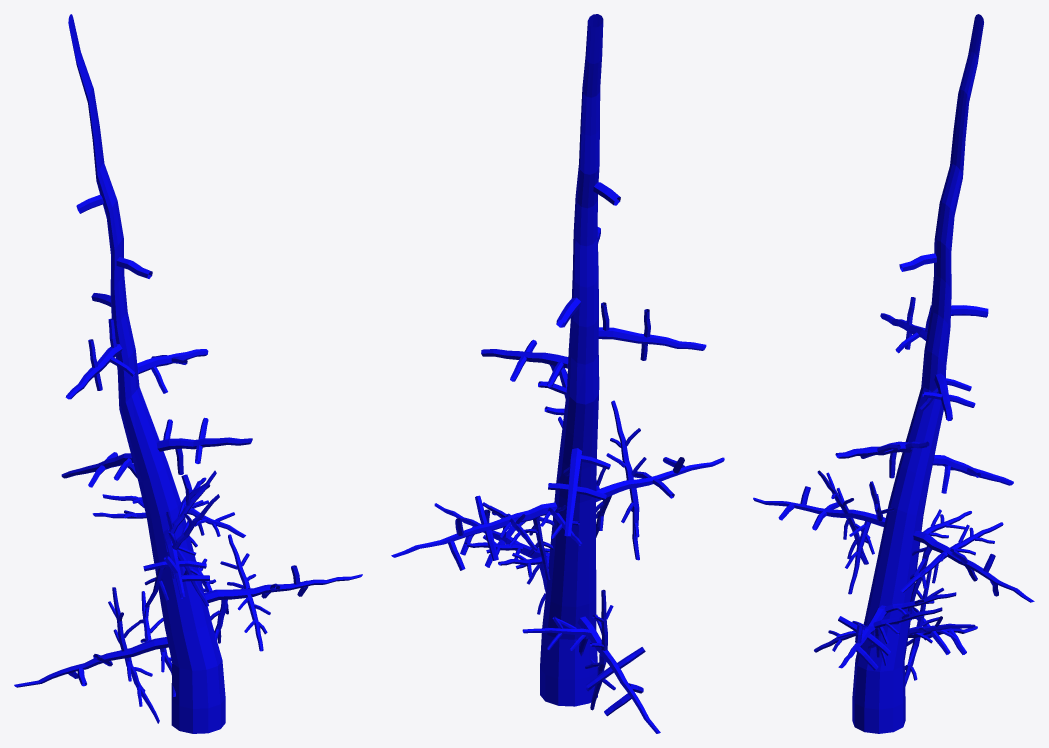
3 views of the same model, side by side, from view 1: azimuth 30°, elevation 25°; view 2: azimuth 150°, elevation 25°; view 3: azimuth 270°, elevation 25° (orthographic). The views are drawn at different scales.
Visible parts, largest first — view 1: Cube; view 2: Cube; view 3: Cube.
Boxes of the visible parts, bbox=[...] form: Cube: bbox=[14, 14, 362, 733]; Cube: bbox=[391, 14, 724, 733]; Cube: bbox=[753, 14, 1034, 733].
Size of the model in its own units: 11.73 by 27.67 by 10.51.
